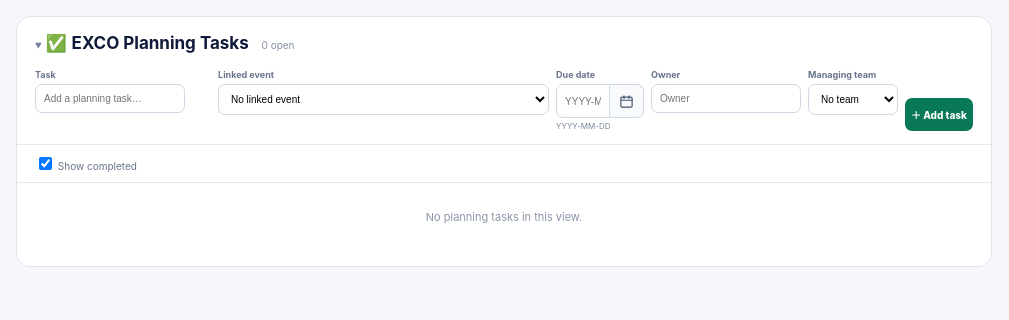
Test case: PlanningTaskBoard › uses an English ISO date field and reports invalid dates in English
Type "Invalid date task" into the field labelled "Task" at (110, 98), box [35,84,185,113]
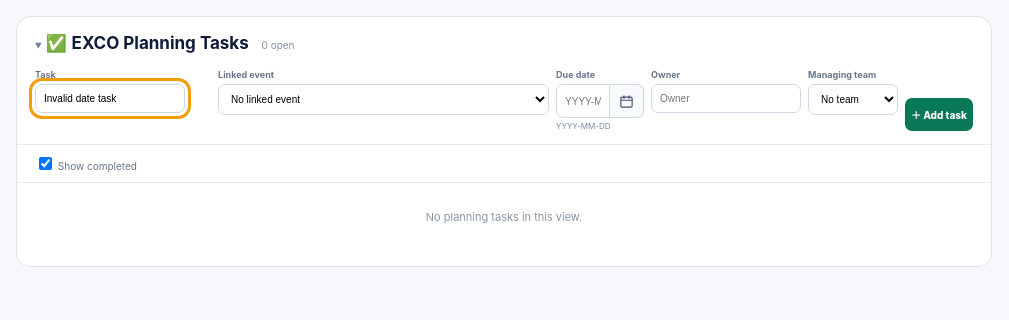
Type "27/07/2026" into the field labelled "Due date YYYY-MM-DD" at (583, 101), box [556,84,610,118]
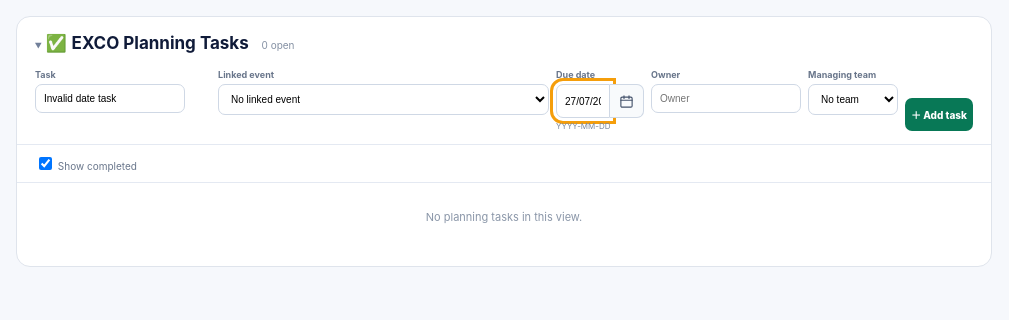
Click the button "＋ Add task" at (939, 114), box [905,98,973,131]
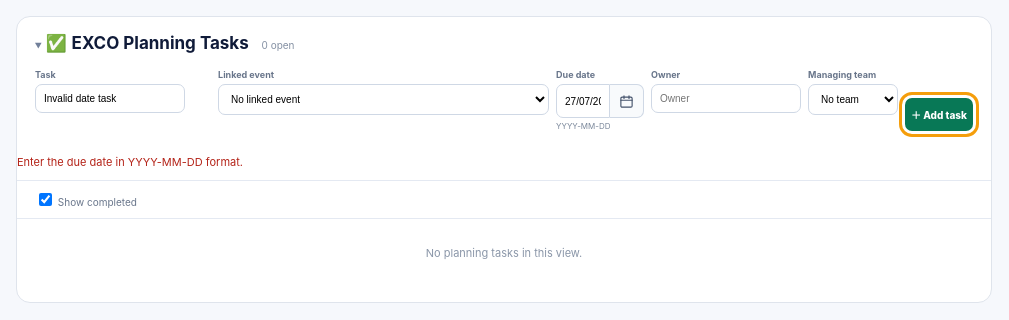
Now the message reads "Enter the due date in YYYY-MM-DD format.", box [17,155,243,169]
